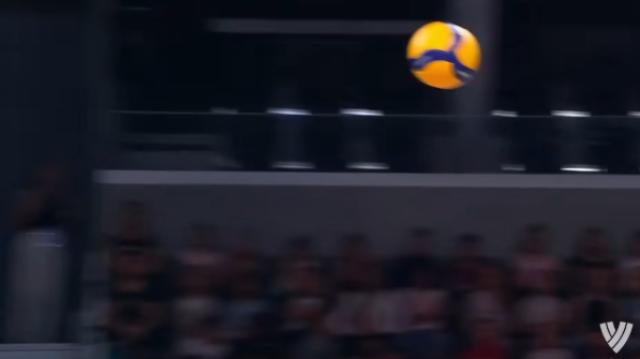bola: (398, 9, 514, 106)
